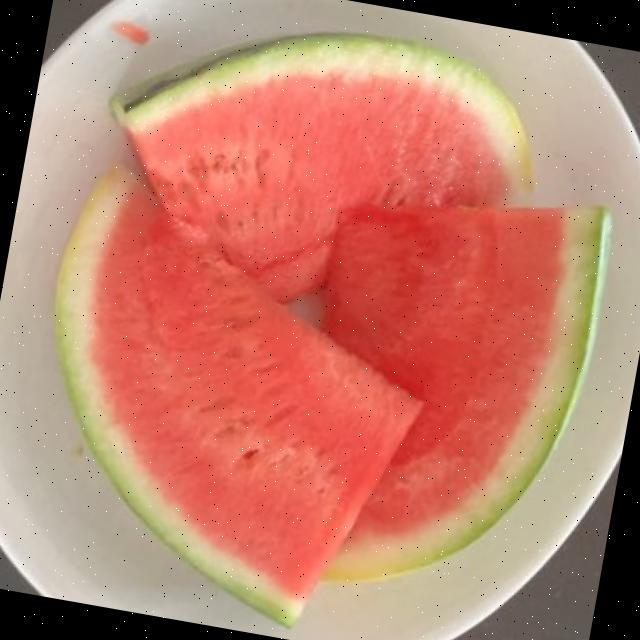watermelon-fresh: (62, 39, 592, 603)
